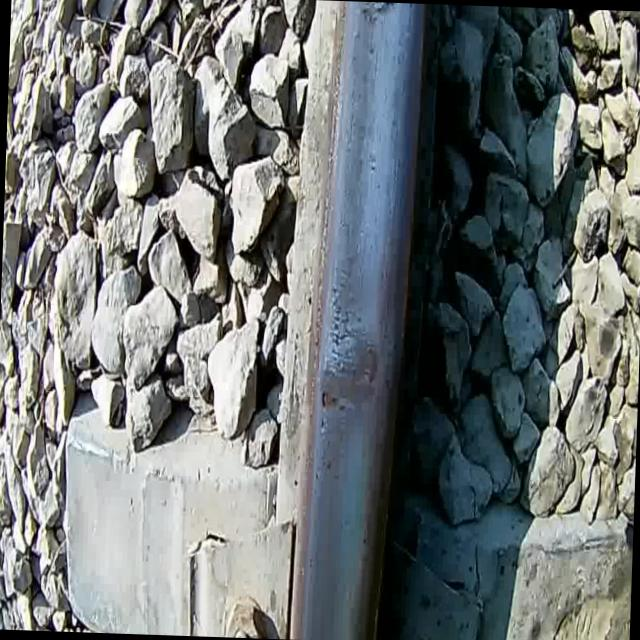Squats: (314, 327, 383, 428)
